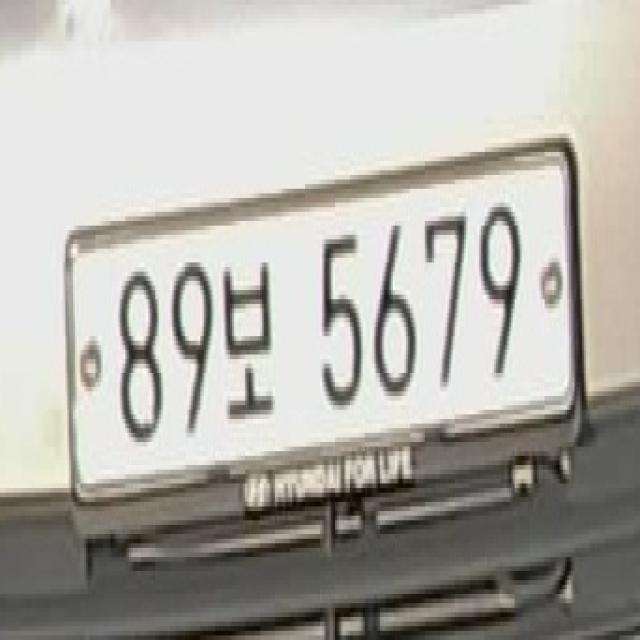plat: (62, 131, 587, 564)
